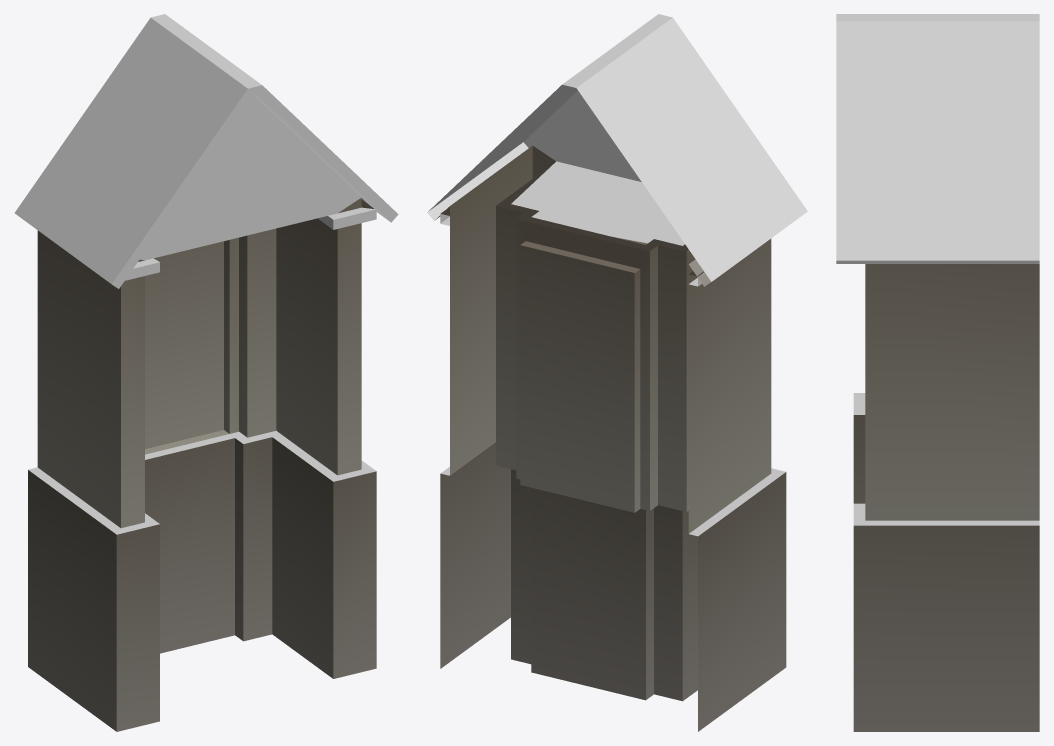
File: Front_5.fbx
The picture shows the model from 3 angles, left to right: view 1: azimuth 30°, elevation 25°; view 2: azimuth 150°, elevation 25°; view 3: azimuth 270°, elevation 25°; orthographic projection. The views are drawn at different scales.
Visible parts, largest first — view 1: Front_D.001, Front_D.004, Front_D.011, Front_D.003, Front_D.005, Front_D.018, Front_D.010, Front_D.006, Front_D.009, Front_D.014, Front_D.002, Front_D.016 (+3 smaller); view 2: Front_D.001, Front_D.005, Front_D.011, Front_D.004, Front_D.003, Front_D.006, Front_D.014, Front_D.010, Front_D.019, Front_D.018, Front_D.007, Front_D (+4 smaller); view 3: Front_D.003, Front_D.001, Front_D.011, Front_D.010, Front_D.002, Front_D.012, Front_D.009.
Boxes of the visible parts, left/top/right/bottom form: Front_D.001: left=28, top=437, right=376, bottom=731; Front_D.004: left=37, top=230, right=144, bottom=528; Front_D.011: left=30, top=17, right=233, bottom=250; Front_D.003: left=276, top=198, right=361, bottom=475; Front_D.005: left=145, top=241, right=223, bottom=448; Front_D.018: left=146, top=95, right=361, bottom=249; Front_D.010: left=14, top=75, right=261, bottom=283; Front_D.006: left=247, top=228, right=276, bottom=437; Front_D.009: left=112, top=85, right=398, bottom=288; Front_D.014: left=145, top=237, right=238, bottom=454; Front_D.002: left=28, top=430, right=376, bottom=534; Front_D.016: left=140, top=197, right=360, bottom=260; Front_D.001: left=440, top=442, right=786, bottom=731; Front_D.005: left=520, top=245, right=634, bottom=512; Front_D.011: left=444, top=28, right=777, bottom=258; Front_D.004: left=686, top=238, right=771, bottom=533; Front_D.003: left=450, top=145, right=555, bottom=475; Front_D.006: left=496, top=206, right=686, bottom=511; Front_D.014: left=516, top=219, right=649, bottom=512; Front_D.010: left=428, top=14, right=807, bottom=281; Front_D.019: left=511, top=164, right=684, bottom=245; Front_D.018: left=533, top=98, right=632, bottom=169; Front_D.007: left=650, top=246, right=657, bottom=510; Front_D: left=435, top=162, right=710, bottom=286; Front_D.003: left=865, top=264, right=1039, bottom=520; Front_D.001: left=853, top=415, right=1039, bottom=731; Front_D.011: left=865, top=21, right=1039, bottom=232; Front_D.010: left=836, top=14, right=1039, bottom=260; Front_D.002: left=853, top=393, right=1039, bottom=525; Front_D.012: left=865, top=14, right=1039, bottom=21; Front_D.009: left=836, top=260, right=1039, bottom=263.
Size of the model in its own units: 298 by 615 by 175.
